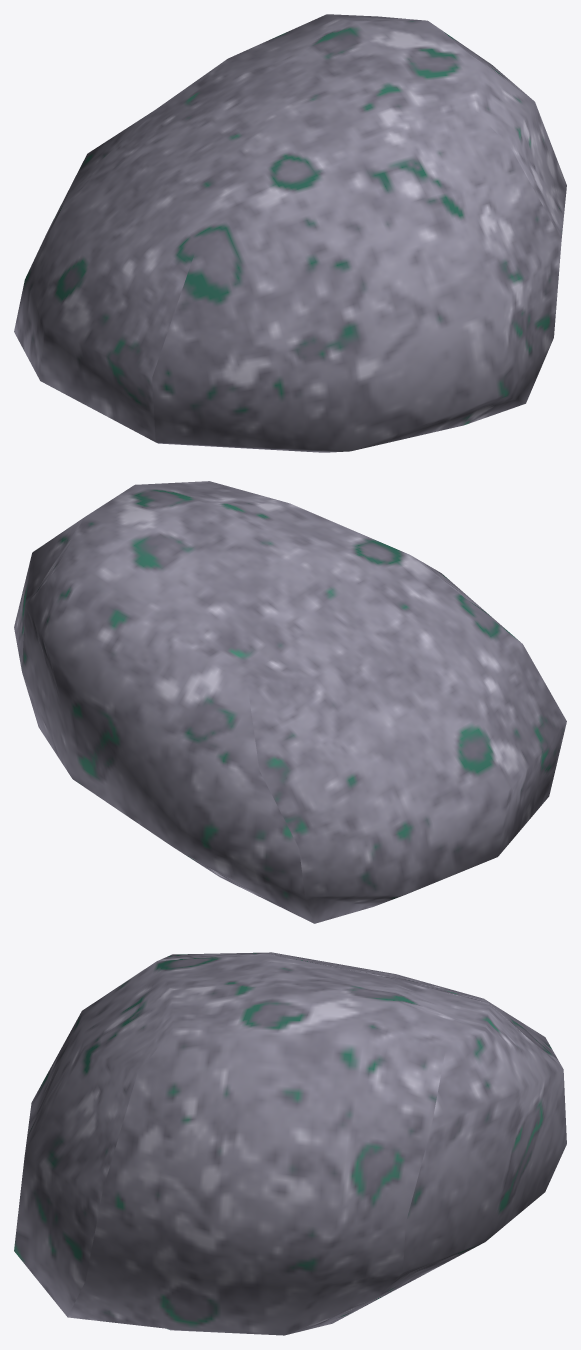
The model's file is rock_2_medium.fbx.
3 views of the same model, one above another, from view 1: azimuth 30°, elevation 25°; view 2: azimuth 150°, elevation 25°; view 3: azimuth 270°, elevation 25° (orthographic). The views are drawn at different scales.
Parts seen in each view (by area): view 1: rock_2_medium; view 2: rock_2_medium; view 3: rock_2_medium.
Boxes of the visible parts, x1=… form: rock_2_medium: x1=14, y1=14, x2=566, y2=452; rock_2_medium: x1=14, y1=481, x2=566, y2=923; rock_2_medium: x1=14, y1=952, x2=566, y2=1335.
Size of the model in its own units: 71.97 by 42.28 by 63.93.
